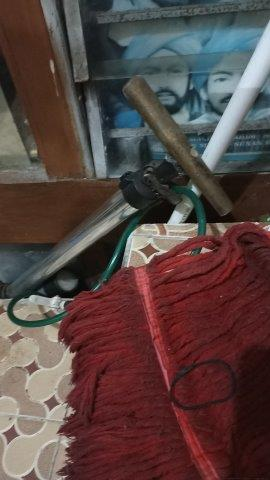karet: (170, 360, 237, 411)
